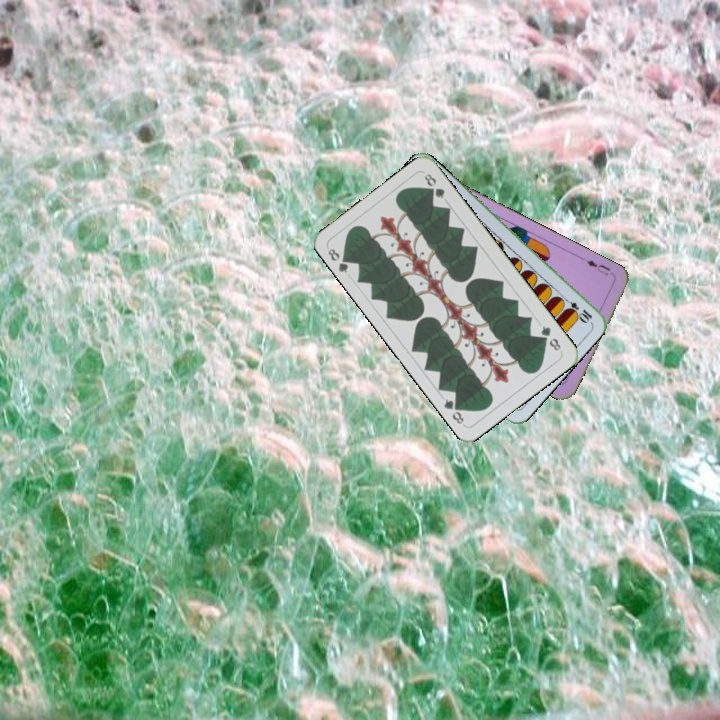E10: (559, 293, 595, 325)
EU: (582, 256, 617, 280)
G8: (323, 244, 354, 276), (536, 321, 564, 354)
